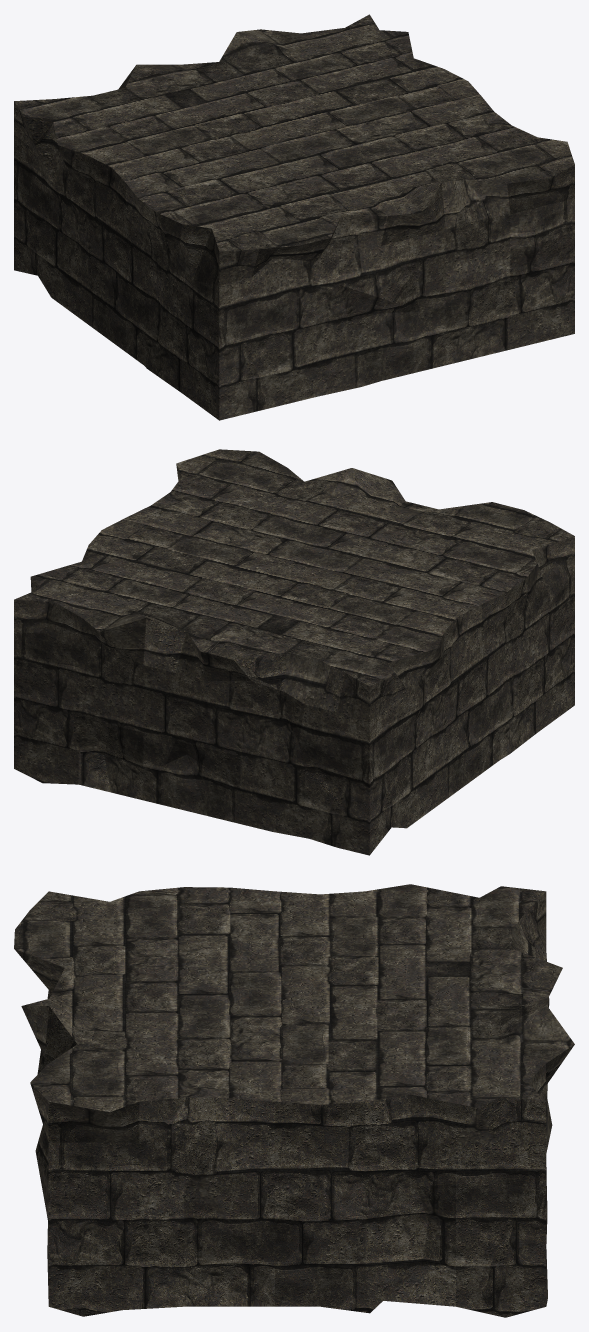
File: Ground.obj
The picture shows the model from 3 angles, top to bottom: view 1: azimuth 30°, elevation 25°; view 2: azimuth 150°, elevation 25°; view 3: azimuth 270°, elevation 25°; orthographic projection. The views are drawn at different scales.
Parts seen in each view (by area): view 1: Cube.001_Cube.002; view 2: Cube.001_Cube.002; view 3: Cube.001_Cube.002.
Boxes of the visible parts, bbox=[...] form: Cube.001_Cube.002: bbox=[14, 14, 574, 420]; Cube.001_Cube.002: bbox=[14, 449, 574, 855]; Cube.001_Cube.002: bbox=[14, 884, 574, 1317].
Size of the model in its own units: 2.17 by 1.05 by 2.25.
